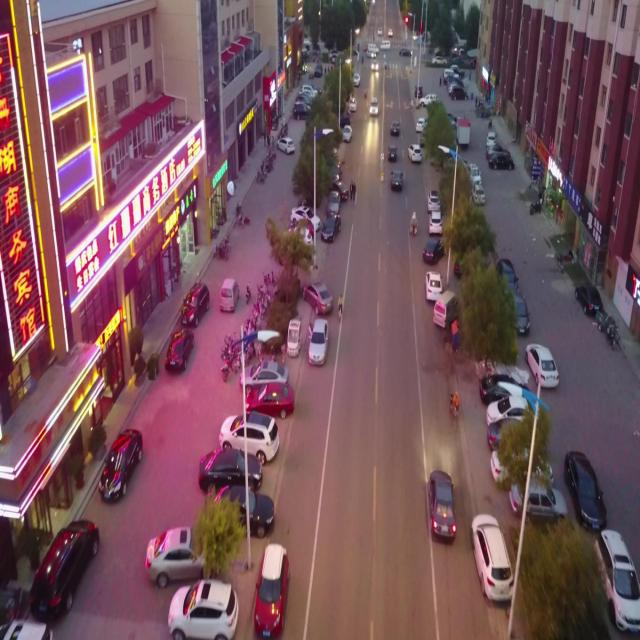car: (29, 519, 99, 618), (594, 529, 639, 632), (470, 513, 514, 602), (253, 543, 290, 638), (98, 427, 142, 503), (427, 469, 456, 542), (180, 281, 210, 326), (219, 278, 239, 312)
person: (337, 293, 343, 320)
tree: (514, 513, 610, 638), (457, 245, 519, 374), (497, 398, 554, 508), (191, 484, 247, 579), (441, 191, 496, 281), (423, 98, 455, 167)
